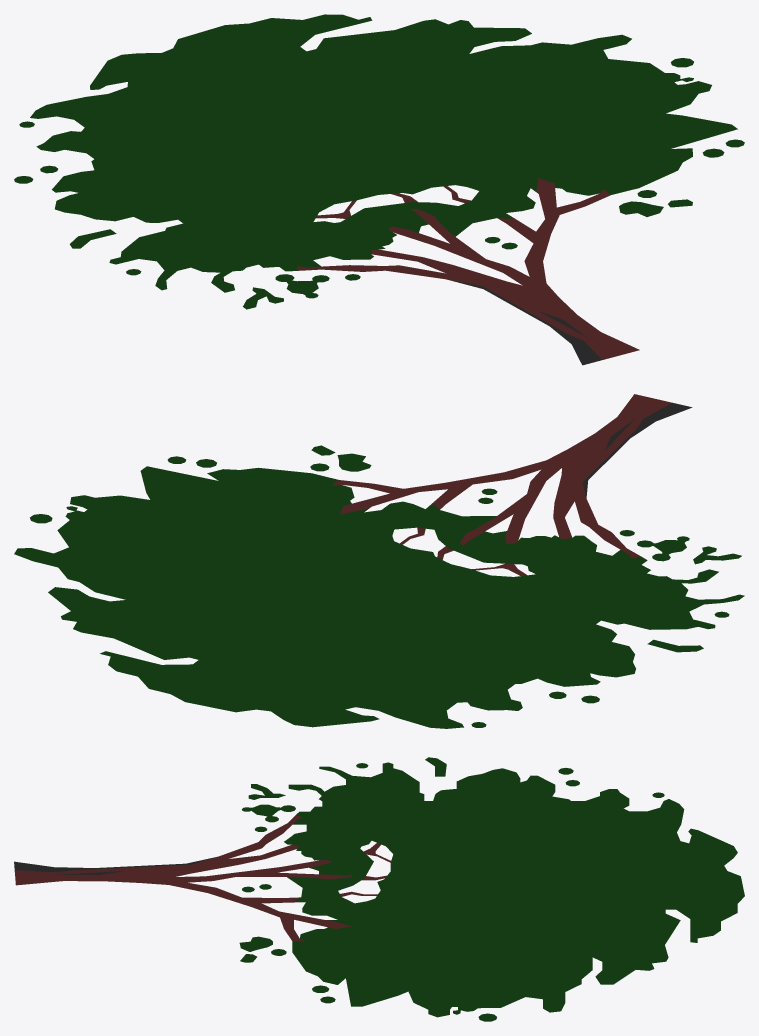
File: tree2.obj
The picture shows the model from 3 angles, top to bottom: view 1: azimuth 30°, elevation 25°; view 2: azimuth 150°, elevation 25°; view 3: azimuth 270°, elevation 25°; orthographic projection. The views are drawn at different scales.
Visible parts, largest first — view 1: instance_3.002, instance_3.014, instance_3.016, instance_3.022; view 2: instance_3.002, instance_3.014, instance_3.016, instance_3.022; view 3: instance_3.002, instance_3.014, instance_3.016, instance_3.022.
Boxes of the visible parts, <box> form: instance_3.002: <box>30,14,737,292</box>; instance_3.014: <box>297,178,639,359</box>; instance_3.016: <box>448,279,602,365</box>; instance_3.022: <box>275,274,329,298</box>; instance_3.002: <box>14,466,744,728</box>; instance_3.014: <box>332,394,671,558</box>; instance_3.016: <box>582,402,692,497</box>; instance_3.022: <box>637,536,689,561</box>; instance_3.002: <box>284,762,744,1017</box>; instance_3.014: <box>14,815,352,941</box>; instance_3.016: <box>14,857,215,872</box>; instance_3.022: <box>242,804,295,822</box>.
Bounding box in the file's own units: 4.7 × 0.017 × 5.46.
